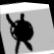not correct: (2, 7, 37, 54)
